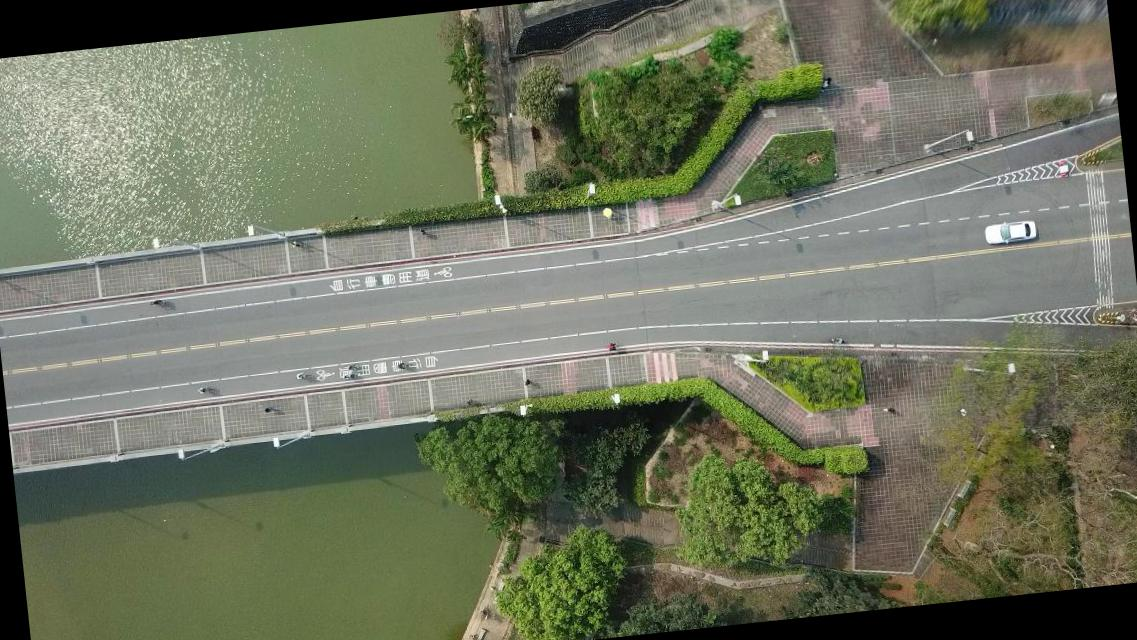vehicle: (984, 218, 1038, 247)
